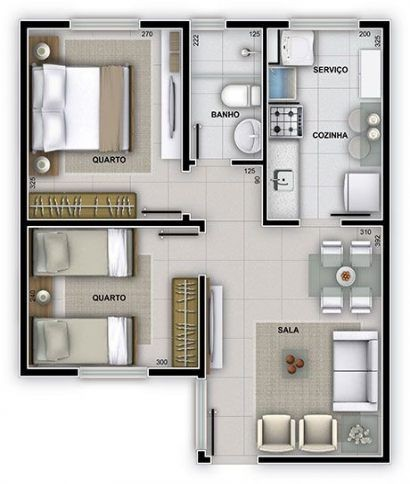door: (209, 410, 247, 461), (141, 181, 190, 216), (158, 231, 200, 267), (193, 124, 226, 164)
room: (17, 19, 192, 223), (21, 223, 205, 376), (261, 17, 388, 228), (250, 317, 392, 463), (257, 225, 390, 321), (183, 22, 263, 166)
wall: (380, 20, 391, 462), (22, 25, 28, 375), (260, 29, 270, 225), (27, 217, 206, 227), (182, 22, 192, 172), (255, 453, 391, 463), (148, 364, 207, 379), (197, 272, 205, 376), (141, 18, 191, 30), (224, 19, 289, 28), (20, 368, 79, 376), (21, 19, 72, 28), (341, 220, 389, 228), (360, 16, 391, 28), (263, 217, 300, 227), (197, 220, 207, 233)
window: (70, 16, 141, 33), (290, 16, 359, 33), (80, 363, 149, 379), (194, 378, 207, 450), (193, 17, 226, 30)
